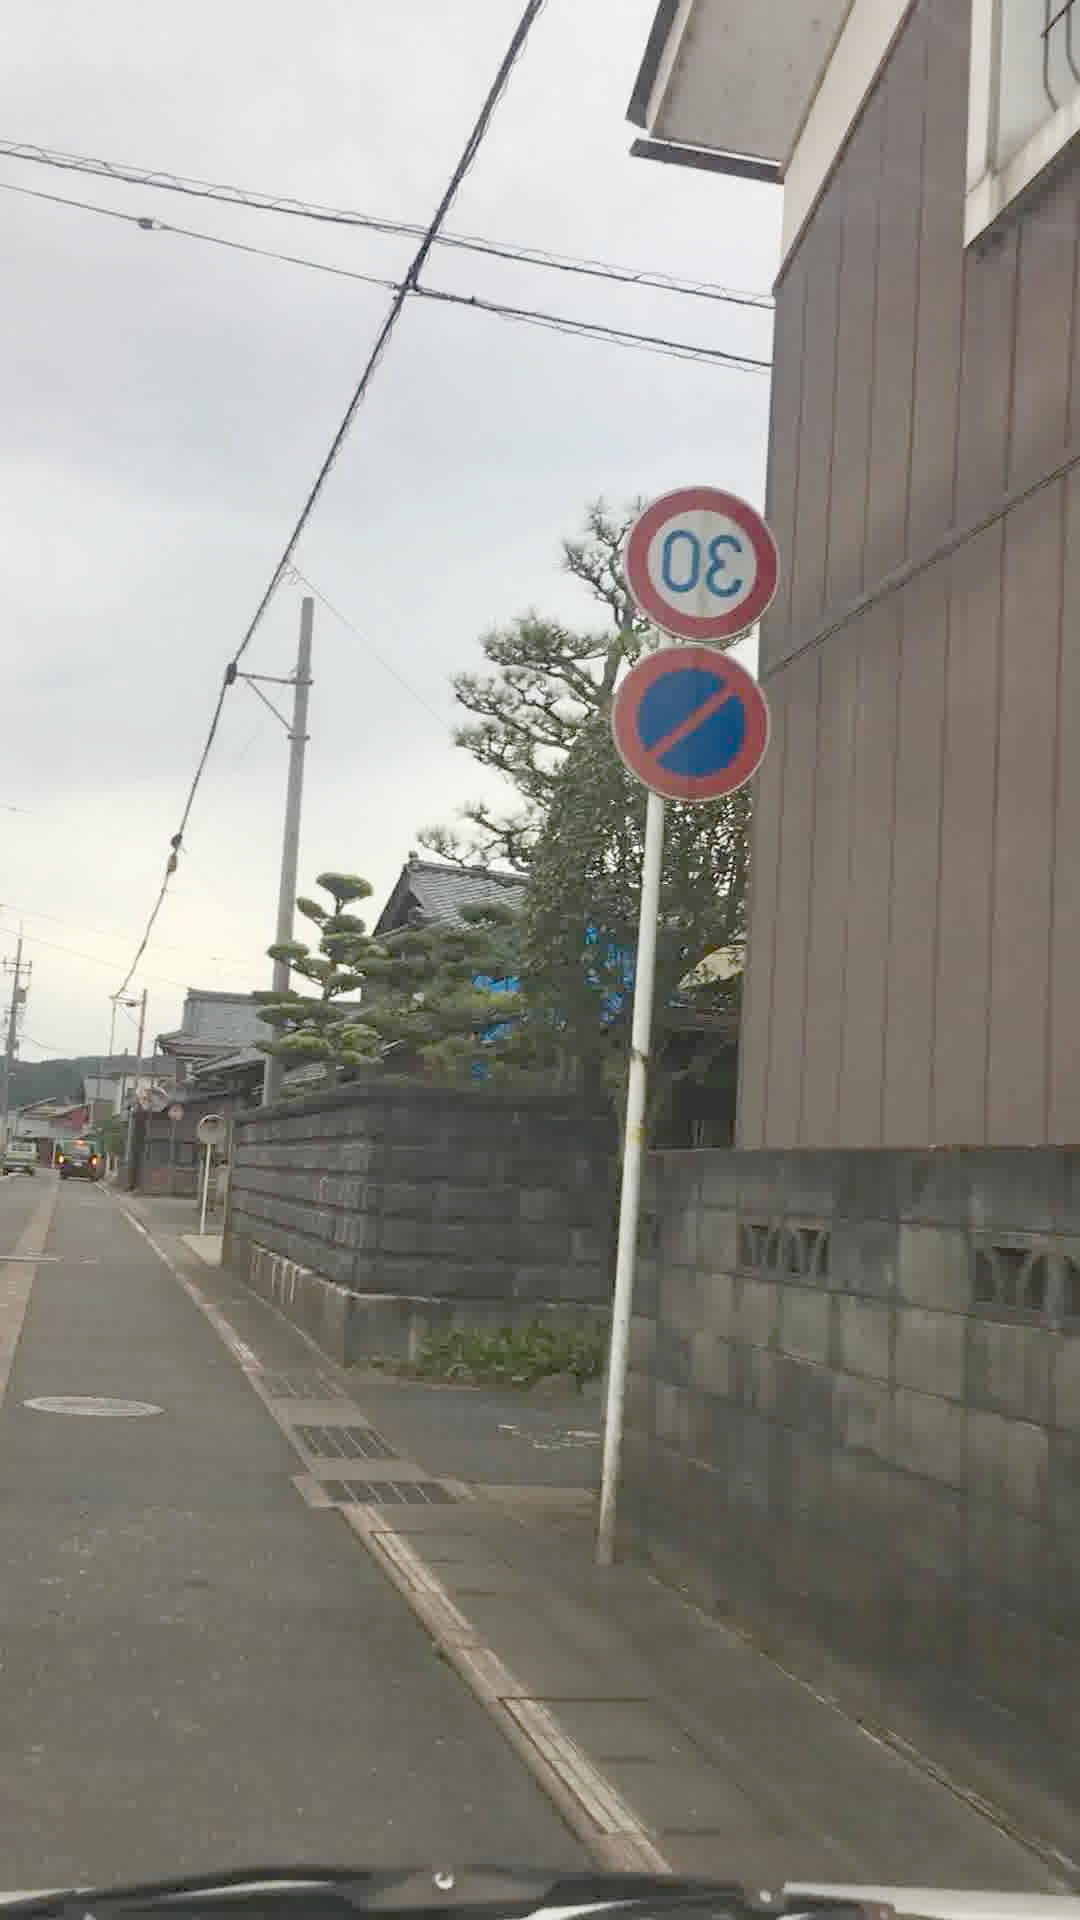Prohibition_sign: (620, 632, 793, 816)
Speed_sign: (618, 480, 786, 666)
